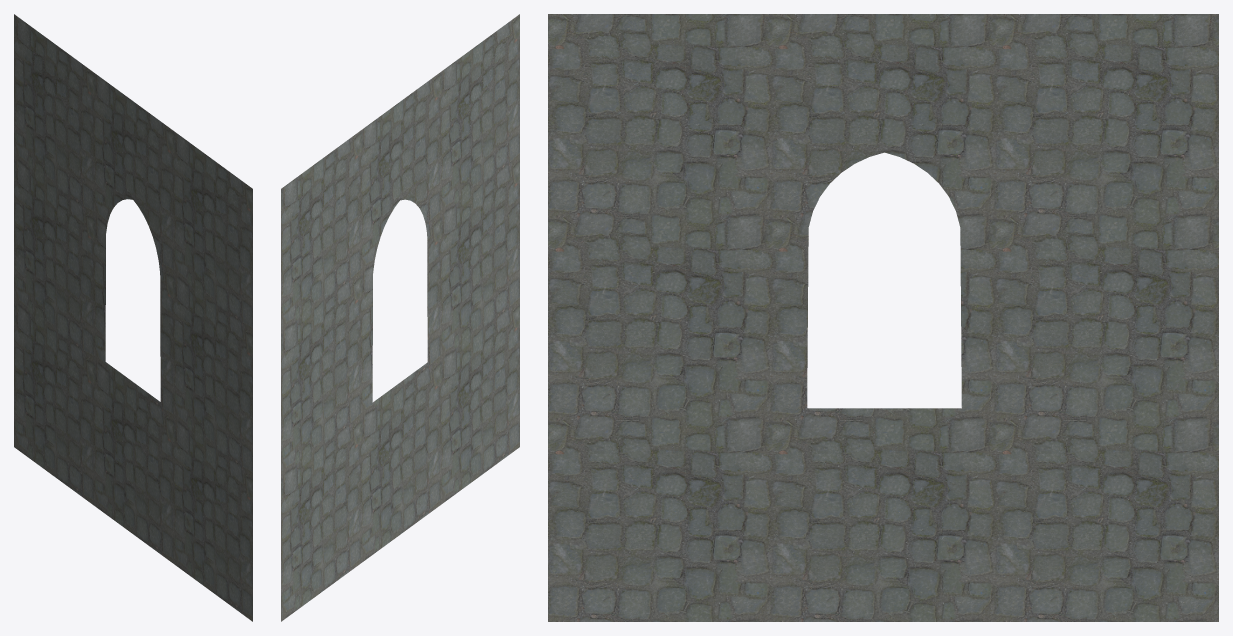
Rendered from wall.glb.
3 views of the same model, side by side, from view 1: azimuth 30°, elevation 25°; view 2: azimuth 150°, elevation 25°; view 3: azimuth 270°, elevation 25° (orthographic). The views are drawn at different scales.
Parts seen in each view (by area): view 1: Wall; view 2: Wall; view 3: Wall.
Boxes of the visible parts, x1,y1,x2,y2 form: Wall: (14,14,252,621); Wall: (281,14,519,621); Wall: (548,14,1218,621).
Size of the model in its own units: 1.78e-15 by 10 by 10.
1 material, 1 textured.
